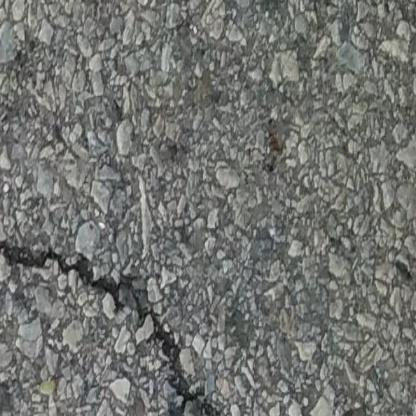Cracks: (0, 222, 244, 416)
